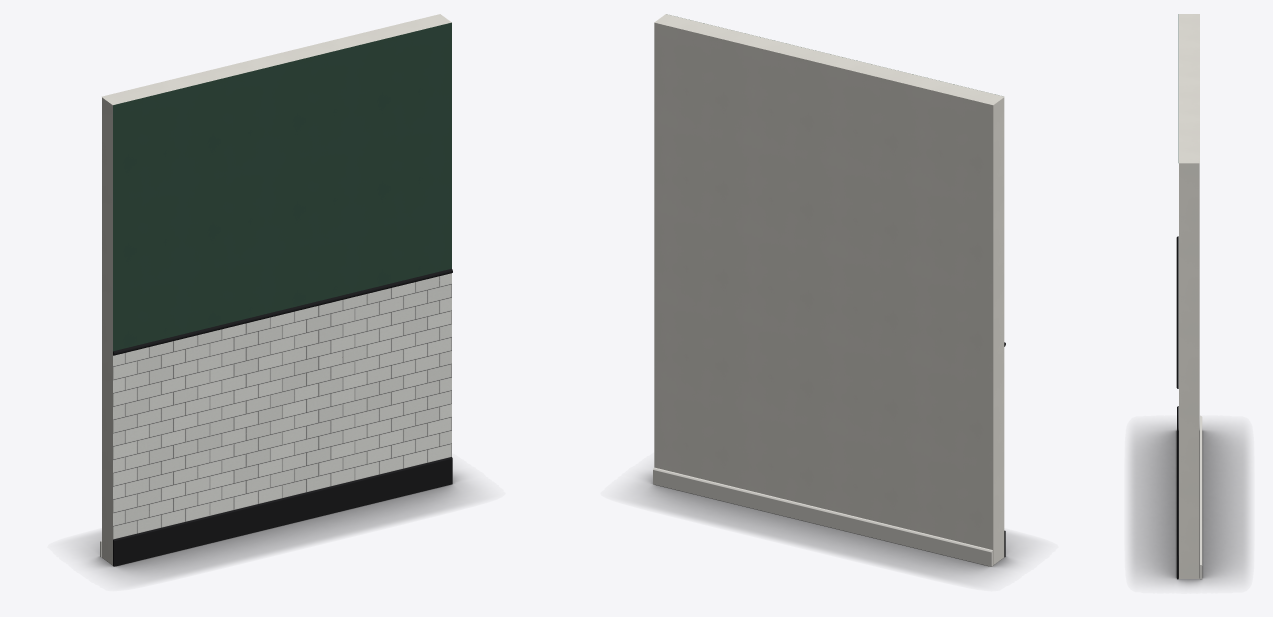
Rendered from wall_subway.glb.
The picture shows the model from 3 angles, left to right: view 1: azimuth 30°, elevation 25°; view 2: azimuth 150°, elevation 25°; view 3: azimuth 270°, elevation 25°; orthographic projection. The views are drawn at different scales.
Parts seen in each view (by area): view 1: wall_subway_LOD0, wall_subway_Shadow; view 2: wall_subway_LOD0, wall_subway_Shadow; view 3: wall_subway_Shadow, wall_subway_LOD0.
Part boxes in pixels (box(x1,y1,x2,y2)): wall_subway_LOD0: box(100, 14, 452, 566); wall_subway_Shadow: box(81, 471, 471, 580); wall_subway_LOD0: box(653, 14, 1005, 566); wall_subway_Shadow: box(634, 471, 1025, 580); wall_subway_Shadow: box(1131, 425, 1247, 585); wall_subway_LOD0: box(1176, 14, 1202, 579).
Size of what is drawn, in the model's own units: 2.64 by 2.6 by 0.786.
Materials: 6 (4 with a texture image).
